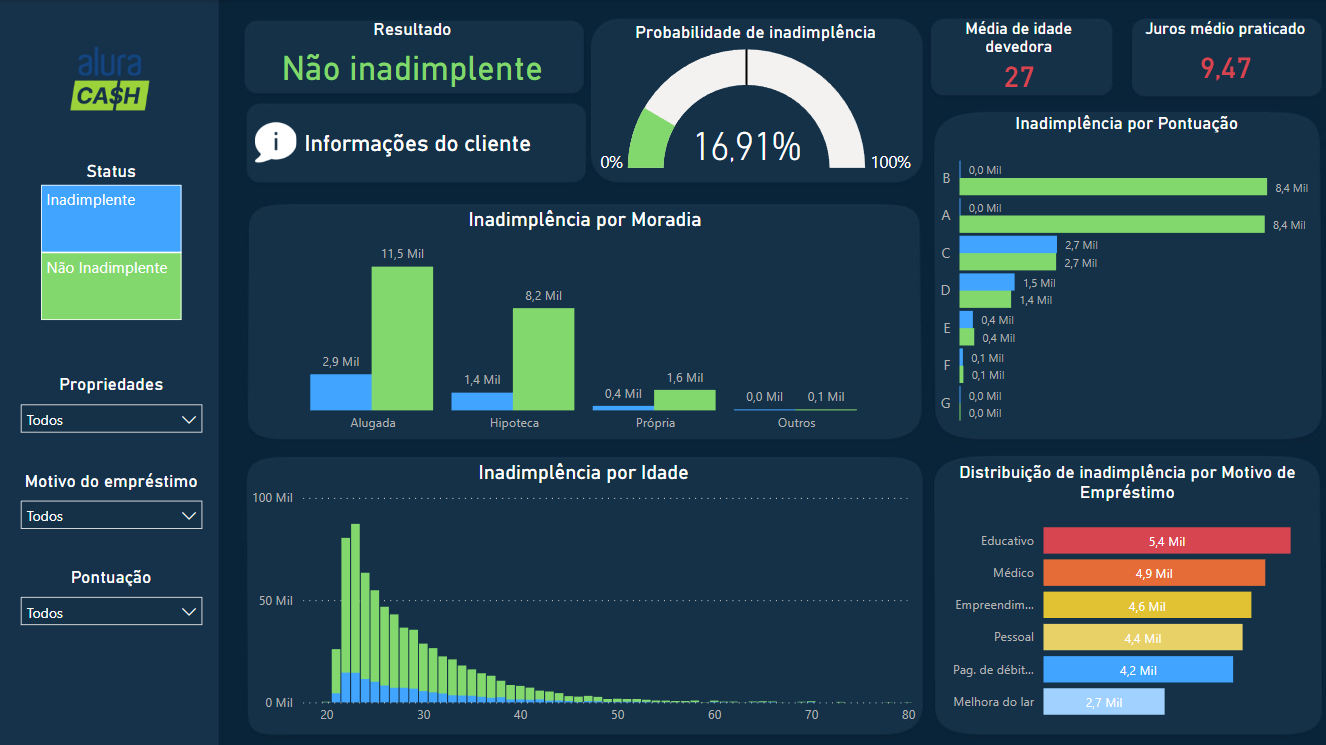

What the dashboard file says about the page in this screenshot:
{"tool":"powerbi","page":{"name":"Dashboard","canvas":[1280,720],"ordinal":0},"visuals":[{"type":"clusteredColumnChart","title":" Inadimplência por Moradia","fields":{"Category":["dados_tratados.propriedade"],"Series":["dados_tratados.inadimplencia_anterior"],"Y":["CountNonNull(dados_tratados.propriedade)"]},"box":[240,200.2,648.8,225.5],"z":0},{"type":"clusteredBarChart","title":"Inadimplência por Pontuação","fields":{"Category":["dados_tratados.pontuacao_emp"],"Y":["CountNonNull(dados_tratados.pontuacao_emp)"],"Series":["dados_tratados.inadimplencia_anterior"]},"box":[900.9,108.5,372.7,317.2],"z":1000},{"type":"lineStackedColumnComboChart","title":"Inadimplência por Idade","fields":{"Category":["dados_tratados.idade_cliente"],"Y":["Sum(dados_tratados.idade_cliente)"],"Series":["dados_tratados.inadimplencia_anterior"]},"box":[237.6,445,651.3,262.9],"z":2000},{"type":"barChart","title":"Distribuição de inadimplência por Motivo de Empréstimo","fields":{"Category":["dados_tratados.motivo_emp"],"Y":["CountNonNull(dados_tratados.inadimplencia_anterior)"],"Series":["dados_tratados.motivo_emp"]},"box":[900.9,445,373.9,262.9],"z":3000},{"type":"gauge","title":"Probabilidade de inadimplência","fields":{"Y":["Sum(v1=34&v2=32000&v3=Alugada&v4=6&v5=M%C3%A9dico&v6=B&v7=15000&v8=4 8&v9=0.probability_1)"],"MaxValue":["Consulta Idade.Destino"],"MinValue":["Consulta Idade.Minimo"],"TargetValue":["Consulta Idade.destino"]},"box":[569.2,20,319.6,154.9],"z":4000},{"type":"card","title":"Resultado","fields":{"Values":["Min(v1=34&v2=32000&v3=Alugada&v4=6&v5=M%C3%A9dico&v6=B&v7=15000&v8=4 8&v9=0.Resultado)"]},"box":[237.6,18.1,320.8,71.2],"z":5000},{"type":"card","title":"Informações do Cliente","fields":{"Values":["Consulta Idade.Info_clientes"]},"box":[241.2,102,324.4,70.4],"z":6000},{"type":"card","title":"Média de idade devedora","fields":{"Values":["Consulta Idade.Media_inadinplentes"]},"box":[897.3,18.1,171.3,73.6],"z":7000},{"type":"image","box":[8.4,1.2,195.4,148.8],"z":8000},{"type":"slicer","title":"Propriedades","fields":{"Values":["dados_tratados.propriedade"]},"box":[9.6,360.6,195.4,72.4],"z":9000},{"type":"slicer","title":"Motivo do empréstimo","fields":{"Values":["dados_tratados.motivo_emp"]},"box":[9.4,453.9,195.4,73.6],"z":10000},{"type":"slicer","title":"Pontuação","fields":{"Values":["dados_tratados.pontuacao_emp"]},"box":[9.4,546.8,195.4,69.9],"z":11000},{"type":"card","title":"Juros médio praticado","fields":{"Values":["Avg(dados_tratados.taxa_juros)"]},"box":[1094.4,18.1,176.8,73.6],"z":12000},{"type":"treemap","title":"Status","fields":{"Values":["Consulta Idade.Legenda"],"Group":["dados_tratados.inadimplencia_anterior"]},"box":[35,154.4,144.7,159.2],"z":13000},{"type":"image","box":[241.2,108.5,49.4,57.9],"z":14000}]}

Visuals, with their boxes in screenshot pixels (x1, y1, x2, y2), scaled from the page's 1280x720 canvas onto the 1326x745 screenshot:
" Inadimplência por Moradia" clusteredColumnChart: bbox(249, 207, 921, 440)
"Inadimplência por Pontuação" clusteredBarChart: bbox(933, 112, 1319, 440)
"Inadimplência por Idade" lineStackedColumnComboChart: bbox(246, 460, 921, 732)
"Distribuição de inadimplência por Motivo de Empréstimo" barChart: bbox(933, 460, 1321, 732)
"Probabilidade de inadimplência" gauge: bbox(590, 21, 921, 181)
"Resultado" card: bbox(246, 19, 578, 92)
"Informações do Cliente" card: bbox(250, 106, 586, 178)
"Média de idade devedora" card: bbox(930, 19, 1107, 95)
image: bbox(9, 1, 211, 155)
"Propriedades" slicer: bbox(10, 373, 212, 448)
"Motivo do empréstimo" slicer: bbox(10, 470, 212, 546)
"Pontuação" slicer: bbox(10, 566, 212, 638)
"Juros médio praticado" card: bbox(1134, 19, 1317, 95)
"Status" treemap: bbox(36, 160, 186, 324)
image: bbox(250, 112, 301, 172)
